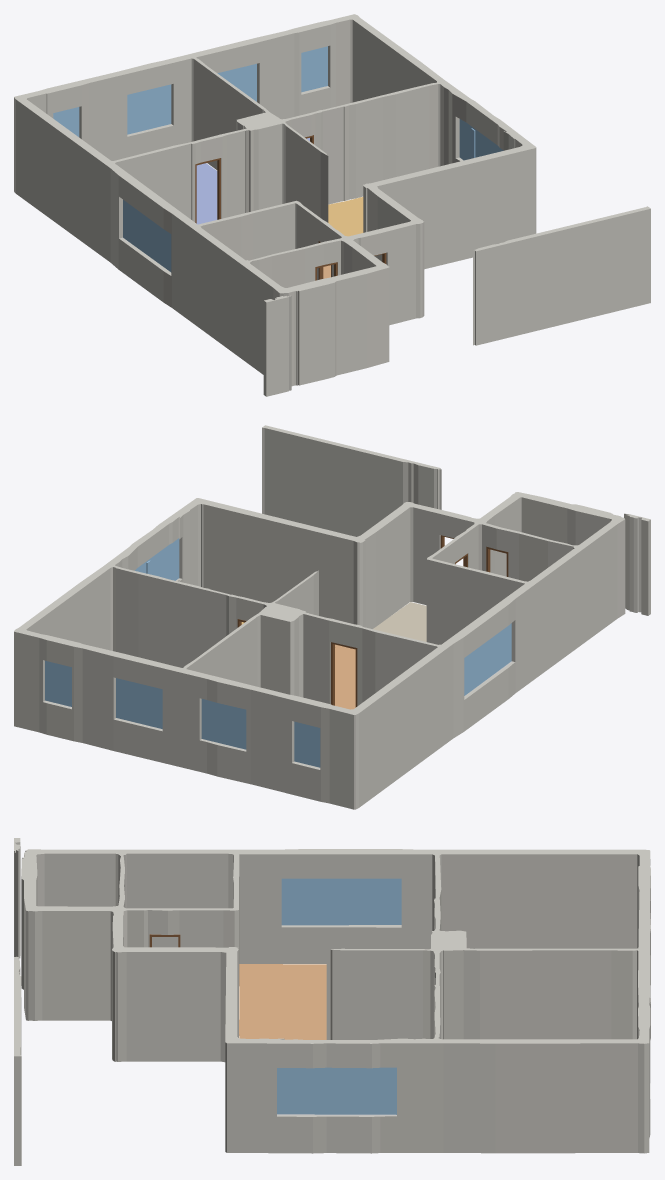
The picture shows the model from 3 angles, top to bottom: view 1: azimuth 30°, elevation 25°; view 2: azimuth 150°, elevation 25°; view 3: azimuth 270°, elevation 25°; orthographic projection. The views are drawn at different scales.
Visible parts, largest first — view 1: walls, window_9, window_6, floor_3_Bed_Room, floor_0_Kitchen, window_8, window_10, window_7; view 2: walls, window_7, window_6, window_9, floor_5_Entry, floor_1_Living_Room, window_8, window_5, window_10; view 3: walls, floor_1_Living_Room, window_9, window_10.
Boxes of the visible parts, x1=… form: walls: x1=14, y1=14, x2=650, y2=396; window_9: x1=123, y1=200, x2=171, y2=272; window_6: x1=127, y1=84, x2=171, y2=134; floor_3_Bed_Room: x1=196, y1=163, x2=217, y2=224; floor_0_Kitchen: x1=328, y1=197, x2=363, y2=236; window_8: x1=301, y1=46, x2=327, y2=92; window_10: x1=459, y1=119, x2=503, y2=160; window_7: x1=217, y1=63, x2=256, y2=101; walls: x1=14, y1=425, x2=650, y2=809; window_7: x1=116, y1=678, x2=162, y2=728; window_6: x1=201, y1=699, x2=246, y2=749; window_9: x1=464, y1=623, x2=511, y2=695; floor_5_Entry: x1=373, y1=602, x2=426, y2=641; floor_1_Living_Room: x1=335, y1=644, x2=355, y2=709; window_8: x1=45, y1=660, x2=71, y2=706; window_5: x1=294, y1=721, x2=320, y2=767; window_10: x1=135, y1=538, x2=179, y2=580; walls: x1=14, y1=838, x2=650, y2=1165; floor_1_Living_Room: x1=239, y1=964, x2=326, y2=1039; window_9: x1=281, y1=878, x2=401, y2=925; window_10: x1=277, y1=1067, x2=396, y2=1114.
Bounding box in the file's own units: 11.51 × 2.72 × 14.21.
